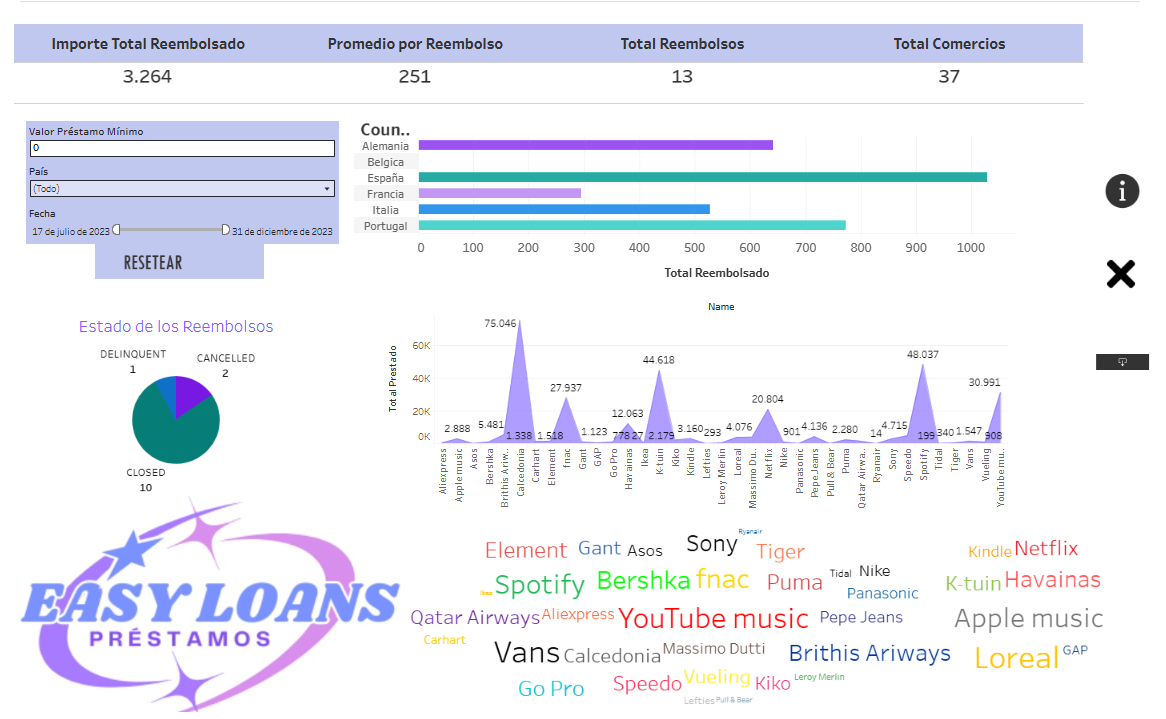

What the dashboard file says about the page in this screenshot:
{"tool":"tableau","page":{"name":"Devoluciones y comercios","canvas":[1450,900],"ordinal":0},"visuals":[{"type":"image","param":"Image/Diseño sin título (2).png","box":[8,8,1357,884]},{"type":"dashboard-object","box":[1365,8,77,884]},{"type":"worksheet","title":"KPIs_devoluciones","mark":"Text","box":[18,27,1348,142]},{"type":"parameter","param":"[Parameters].[Parámetro 1]","box":[32,149,392,51.5]},{"type":"worksheet","title":"barras por pais","mark":"Bar","rows":["country"],"cols":["amount (refunds)"],"box":[442,149,828,208]},{"type":"filter","title":"Top Ventas","param":"[federated.17pef700fgud671df00g51e4hpw2].[none:country:nk]","box":[32,200.5,392,51.5]},{"type":"filter","title":"Top Ventas","param":"[federated.17pef700fgud671df00g51e4hpw2].[tdy:created_at:qk]","box":[32,252,392,51]},{"type":"worksheet","title":"Resetear","mark":"Automatic","box":[119,303,211,43]},{"type":"worksheet","title":"total reembolsos comercios","mark":"Area","rows":["amount"],"cols":["name"],"box":[475,370,785,262]},{"type":"worksheet","title":"Círculo","mark":"Pie","box":[35,385,370,233]},{"type":"worksheet","title":"Top Ventas","mark":"Text","box":[513,633,868,271]}]}

Visuals, with their boxes in screenshot pixels (x1, y1, x2, y2), scaled from the page's 1450x900 canvas onto the 1166x719 screenshot:
image: <bbox>6, 6, 1098, 713</bbox>
dashboard-object: <bbox>1098, 6, 1160, 713</bbox>
"KPIs_devoluciones" worksheet (Text marks): <bbox>14, 22, 1098, 135</bbox>
parameter: <bbox>26, 119, 341, 160</bbox>
"barras por pais" worksheet (Bar marks): <bbox>355, 119, 1021, 285</bbox>
"Top Ventas" filter: <bbox>26, 160, 341, 201</bbox>
"Top Ventas" filter: <bbox>26, 201, 341, 242</bbox>
"Resetear" worksheet: <bbox>96, 242, 265, 276</bbox>
"total reembolsos comercios" worksheet (Area marks): <bbox>382, 296, 1013, 505</bbox>
"Círculo" worksheet (Pie marks): <bbox>28, 308, 326, 494</bbox>
"Top Ventas" worksheet (Text marks): <bbox>413, 506, 1111, 718</bbox>
